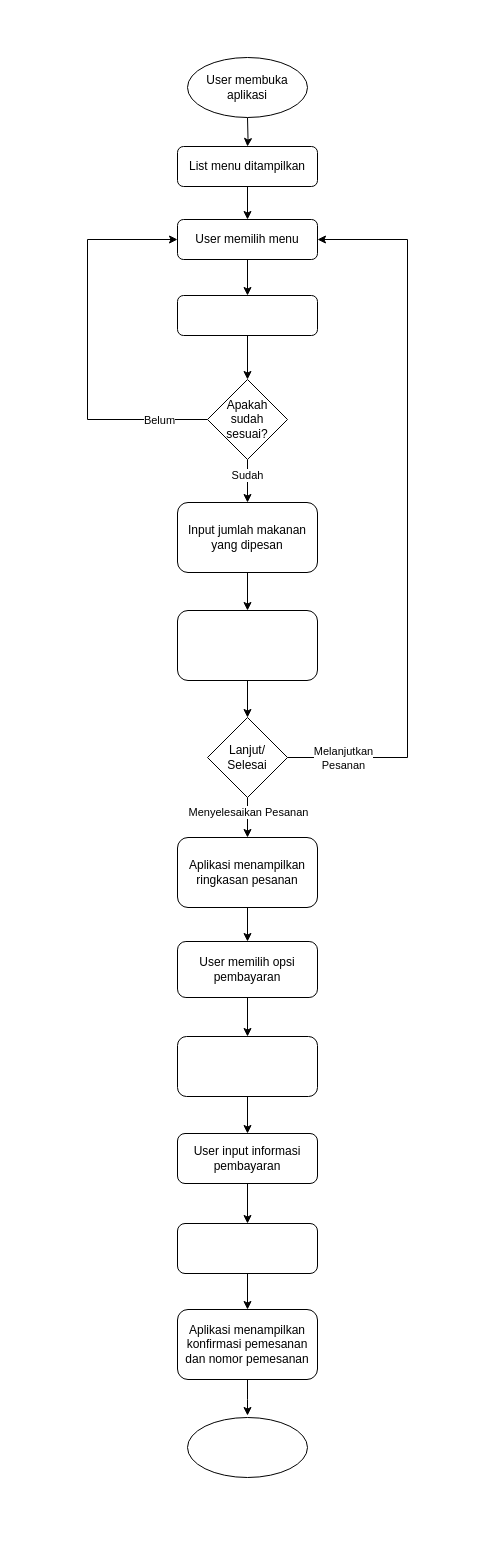
The diagram is 504 pixels wide and 1554 high, and some of its shapes have lost their labels. The shapes that lost their labels are listed below. From the top down, each one's centre as x and y in pixels, then its label:
At (x=247, y=315): "Detail menu ditampilkan".
At (x=247, y=645): "Menambahkan jumlah makanan ke keranjang".
At (x=247, y=1066): "Aplikasi mengarahkan ke halaman pembayaran".
At (x=247, y=1248): "Aplikasi memproses pembayaran".
At (x=247, y=1447): "Pemesanan selesai".
